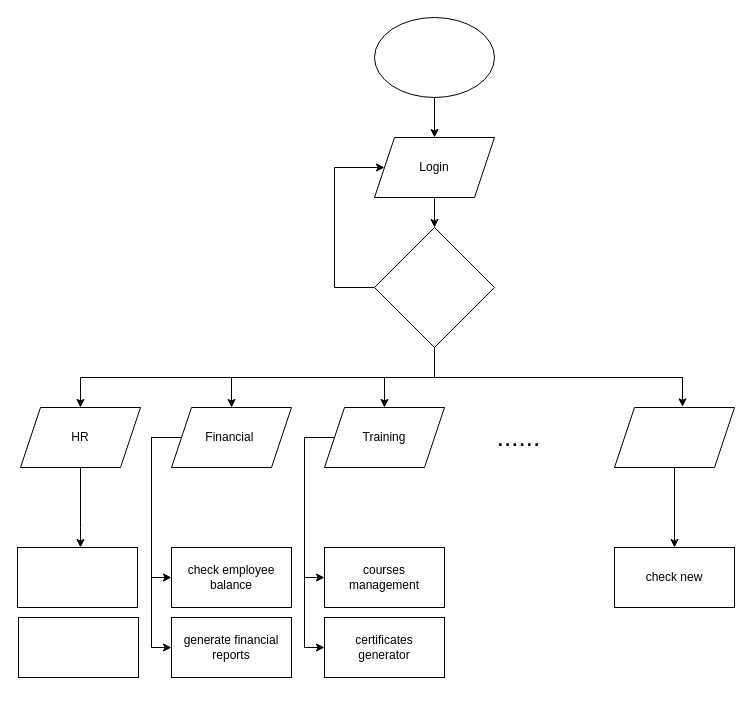
The diagram is 752 pixels wide and 711 high, and some of its shapes have lost their labels. The box of each missing label's shape, as (x1, y1, x2, y2) in pixels:
Bonuses and penalties: (18, 616, 138, 678)
Employee: (614, 406, 734, 468)
Employees: (16, 546, 138, 608)
login successfully: (374, 226, 494, 348)
Start: (374, 16, 494, 98)
